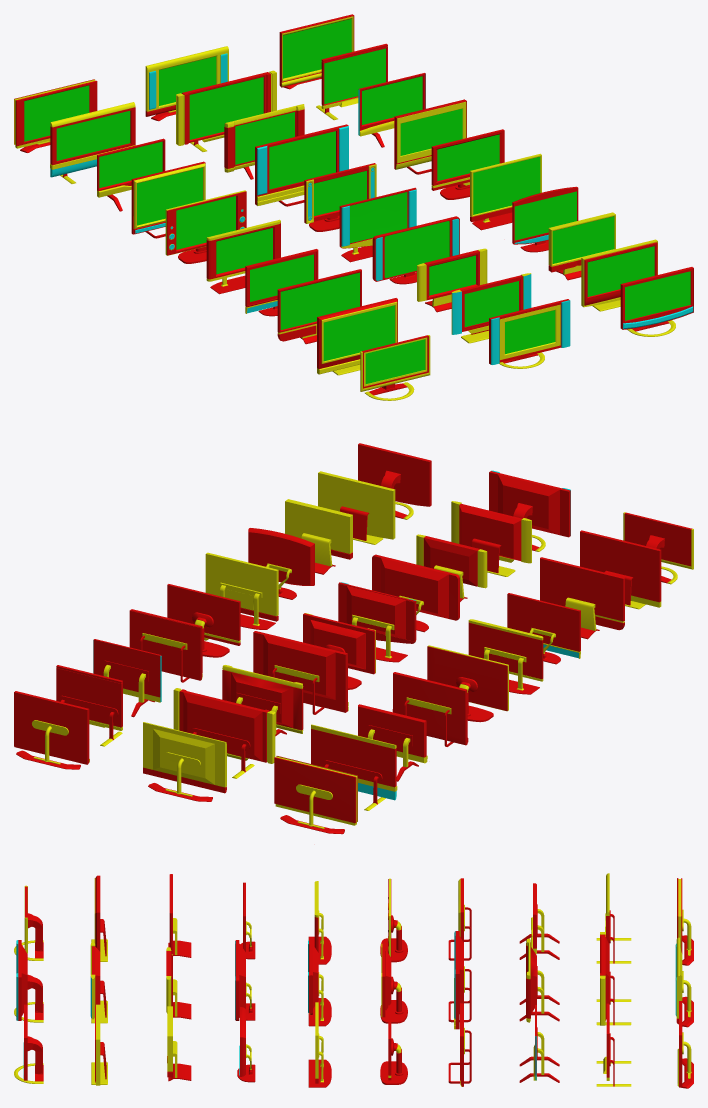
File: televisions_grp.fbx
3 renders of one model, top to bottom at view 1: azimuth 30°, elevation 25°; view 2: azimuth 150°, elevation 25°; view 3: azimuth 270°, elevation 25°, orthographic. The views are drawn at different scales.
Visible parts, largest first — view 1: television_17, television_19, television_9, television_2, television_11, television_3, television_14, television_30, television_21, television_7, television_20, television_6 (+18 smaller); view 2: television_17, television_19, television_20, television_10, television_30, television_3, television_2, television_14, television_9, television_7, television_11, television_27 (+35 smaller); view 3: television_17, television_11, television_19, television_18, television_14, television_stand_26, television_stand_25, television_12, television_15, television_16, television_stand_16, television_stand_6 (+27 smaller).
Part boxes in pixels (bbox=[...]): television_17: bbox=[255, 124, 348, 205]; television_19: bbox=[176, 70, 276, 145]; television_9: bbox=[50, 102, 135, 177]; television_2: bbox=[317, 298, 397, 374]; television_11: bbox=[489, 299, 570, 364]; television_3: bbox=[277, 269, 361, 341]; television_14: bbox=[372, 216, 459, 281]; television_30: bbox=[279, 14, 354, 87]; television_21: bbox=[620, 267, 693, 329]; television_7: bbox=[131, 161, 205, 234]; television_20: bbox=[145, 46, 228, 116]; television_6: bbox=[165, 190, 246, 255]; television_17: bbox=[253, 631, 348, 712]; television_19: bbox=[173, 688, 275, 763]; television_20: bbox=[143, 722, 226, 793]; television_10: bbox=[274, 756, 357, 825]; television_30: bbox=[14, 691, 89, 764]; television_3: bbox=[540, 557, 624, 630]; television_2: bbox=[580, 530, 661, 607]; television_14: bbox=[372, 554, 459, 620]; television_9: bbox=[311, 724, 397, 800]; television_7: bbox=[392, 672, 468, 745]; television_11: bbox=[489, 470, 570, 537]; television_27: bbox=[129, 609, 202, 680]; television_17: bbox=[454, 931, 463, 1029]; television_11: bbox=[16, 940, 27, 1020]; television_19: bbox=[600, 932, 609, 1025]; television_18: bbox=[526, 938, 536, 1022]; television_14: bbox=[235, 940, 245, 1020]; television_stand_26: bbox=[380, 1038, 407, 1084]; television_stand_25: bbox=[308, 1033, 331, 1087]; television_12: bbox=[90, 941, 100, 1019]; television_15: bbox=[308, 940, 318, 1014]; television_16: bbox=[381, 943, 391, 1017]; television_stand_16: bbox=[380, 976, 407, 1023]; television_stand_6: bbox=[380, 915, 407, 962].
Size of the model in its own units: 521 by 121 by 935.
